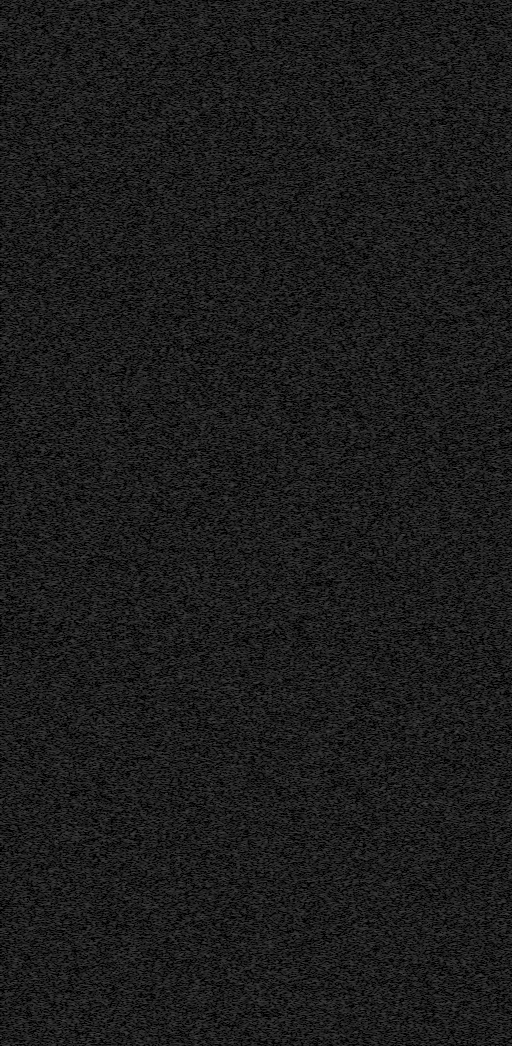wv_am: (125, 0, 130, 1045), (414, 0, 418, 1045)
wv_lsb: (458, 447, 464, 981), (458, 55, 464, 270), (458, 304, 464, 402), (458, 5, 464, 54), (458, 982, 464, 1021), (458, 407, 463, 442), (458, 271, 463, 303), (458, 1022, 464, 1045), (458, 443, 463, 446), (459, 403, 463, 406)
wv_usb: (69, 150, 74, 247), (69, 772, 74, 814), (69, 879, 74, 899), (69, 848, 73, 871), (69, 908, 74, 926), (69, 990, 73, 1011), (70, 504, 73, 531), (69, 112, 73, 132), (69, 968, 73, 986), (69, 97, 73, 111), (70, 1027, 73, 1045), (69, 834, 73, 847), (69, 83, 73, 96), (69, 136, 73, 148), (69, 949, 73, 961), (70, 328, 73, 343), (70, 46, 73, 60), (69, 825, 74, 833), (69, 20, 73, 30), (69, 941, 74, 948), (70, 300, 73, 310), (70, 930, 73, 940), (69, 67, 73, 74), (70, 270, 73, 279), (69, 872, 73, 878), (70, 1018, 73, 1026), (70, 362, 73, 370), (70, 679, 73, 686), (70, 608, 73, 615), (70, 591, 73, 598), (70, 496, 73, 503), (70, 430, 73, 437), (70, 262, 73, 269), (70, 38, 73, 45), (69, 819, 73, 824), (70, 355, 73, 361), (70, 293, 73, 299), (70, 31, 73, 37), (70, 902, 73, 907), (70, 688, 73, 693), (70, 670, 73, 675), (70, 371, 73, 376), (70, 322, 73, 327), (70, 287, 73, 292), (70, 696, 73, 700), (70, 471, 73, 475), (70, 411, 73, 415), (70, 406, 73, 410), (70, 400, 73, 404), (70, 383, 73, 387), (70, 377, 73, 381), (70, 251, 73, 255), (70, 76, 73, 80), (70, 13, 73, 17), (70, 752, 73, 755), (70, 705, 73, 708), (70, 652, 73, 655), (70, 549, 73, 552), (70, 539, 73, 542), (70, 485, 73, 488), (70, 480, 73, 483), (70, 419, 73, 422), (70, 347, 73, 350), (70, 964, 73, 967), (70, 280, 73, 283), (70, 258, 73, 261)
wv_wbfm: (421, 0, 435, 1045), (258, 0, 269, 1045)
